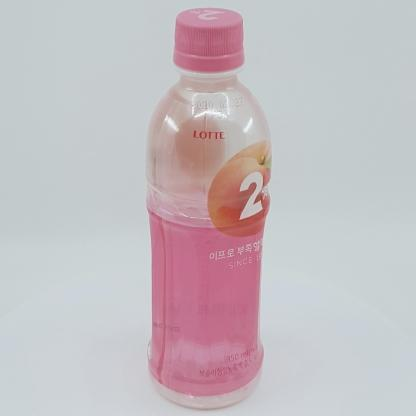--2_---350ML: (144, 7, 272, 411)
